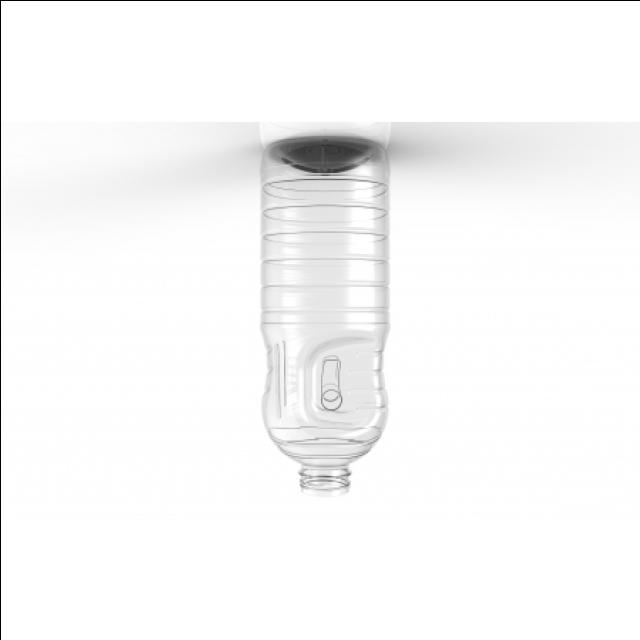bottom: (245, 131, 387, 191)
no_cap: (290, 453, 358, 501)
